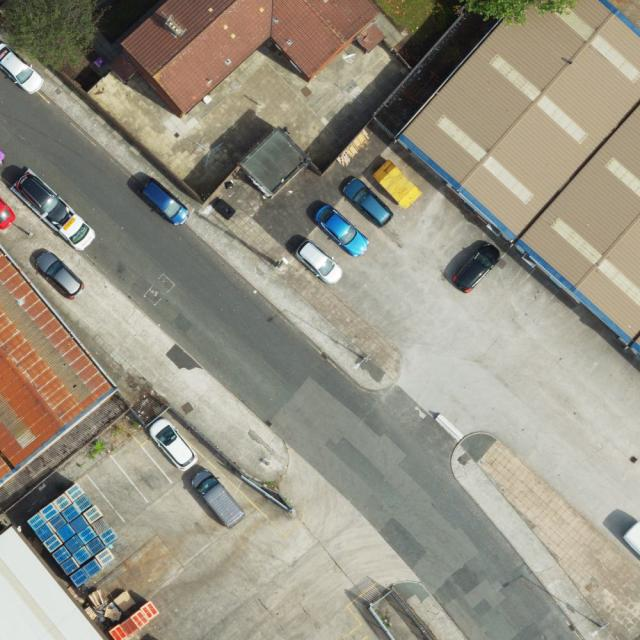roof: (399, 0, 639, 353), (123, 1, 380, 116), (0, 250, 116, 485)
